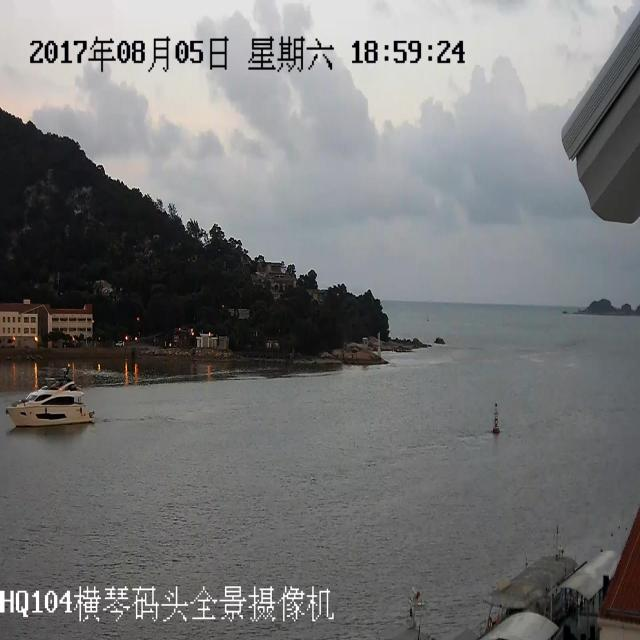buoy: (485, 402, 504, 436)
passenger ship: (7, 364, 98, 432)
reef: (568, 282, 640, 319)
